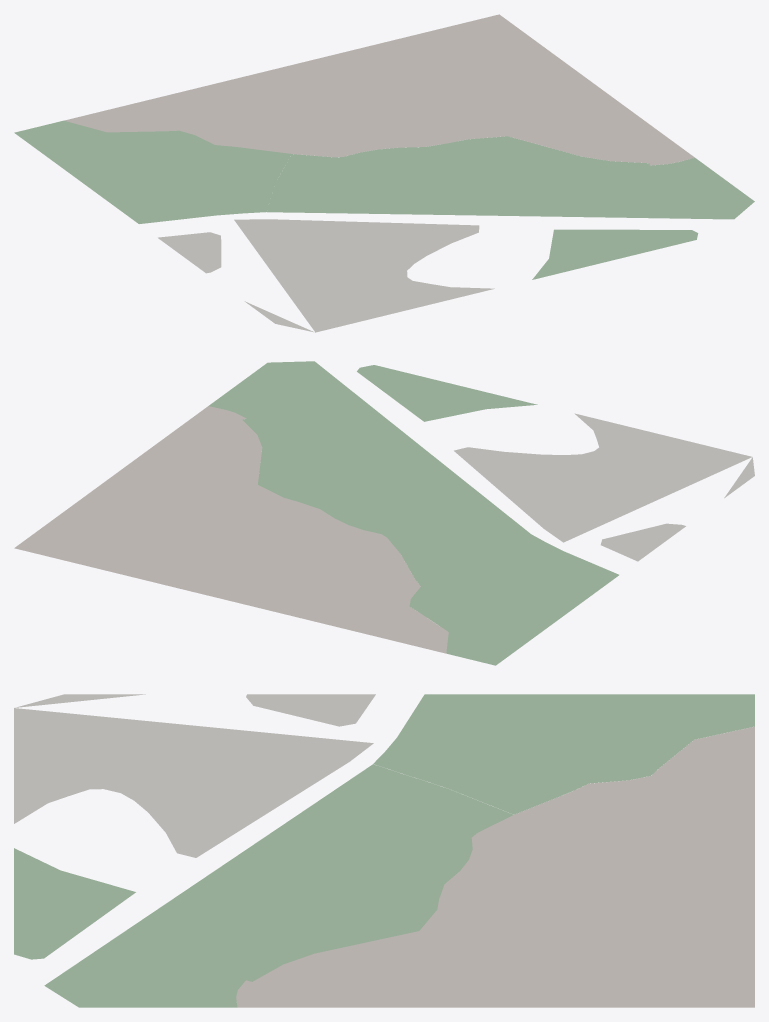
File: 110_114_mid.glb
3 renders of one model, top to bottom at view 1: azimuth 30°, elevation 25°; view 2: azimuth 150°, elevation 25°; view 3: azimuth 270°, elevation 25°, orthographic. The views are drawn at different scales.
Bounding box in the file's own units: 500 × 0.3043 × 500.
